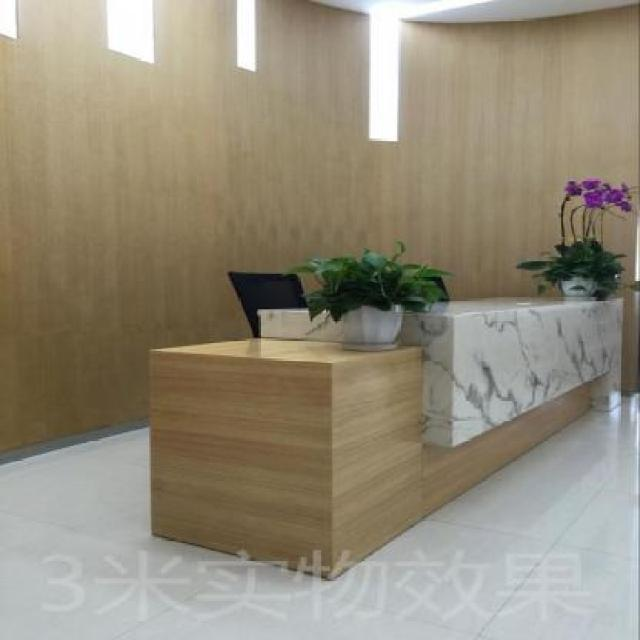frontdesk: (132, 286, 632, 593)
